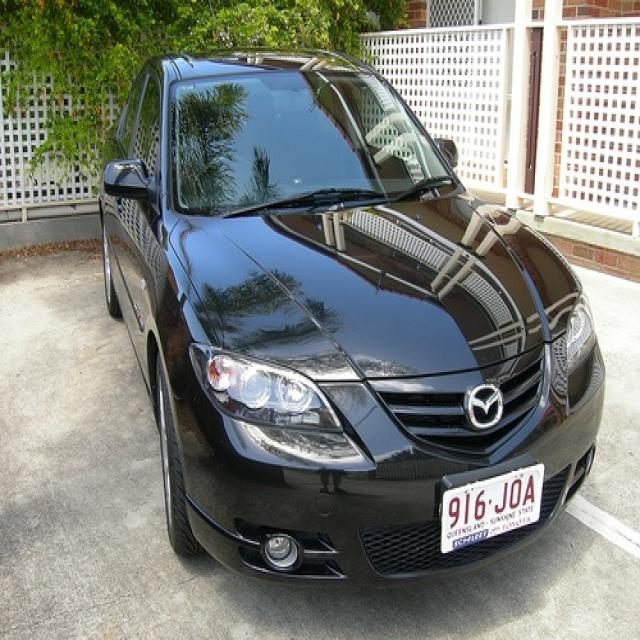car: (99, 48, 606, 590)
